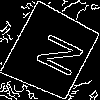N: (26, 26, 86, 80)
